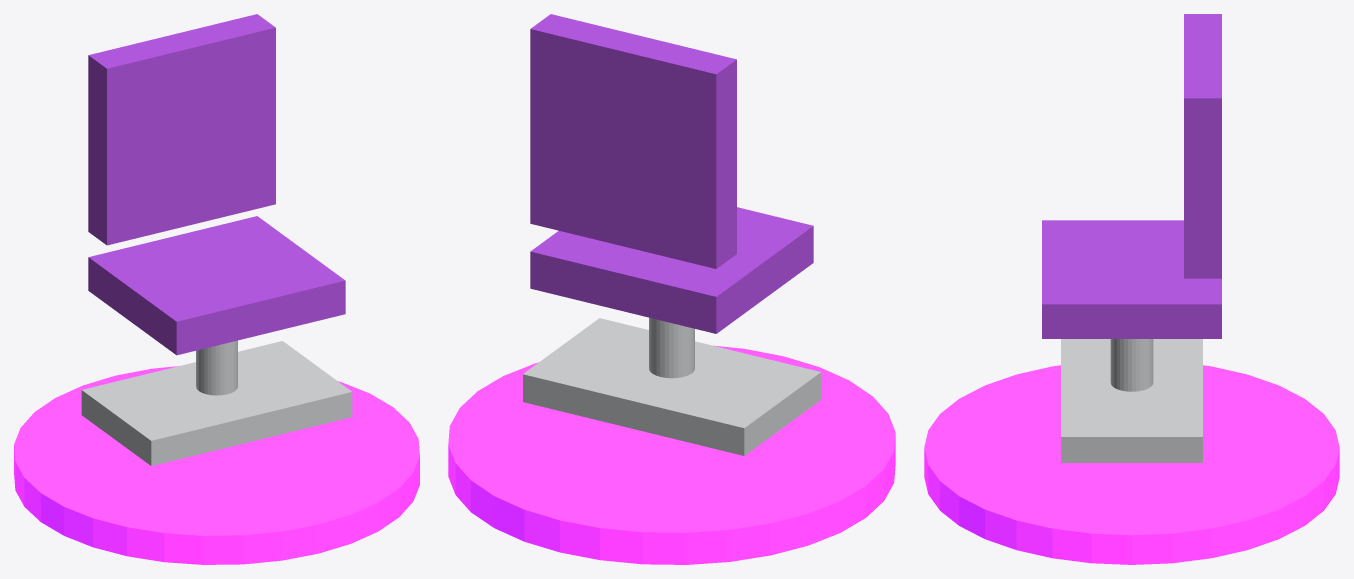
The model's file is modelling_makeup_chair.glb.
3 views of the same model, side by side, from view 1: azimuth 30°, elevation 25°; view 2: azimuth 150°, elevation 25°; view 3: azimuth 270°, elevation 25° (orthographic). The views are drawn at different scales.
Parts seen in each view (by area): view 1: 05_18_Popular_Modelling_Makeup_Chair_ROOT_base, 05_18_Popular_Modelling_Makeup_Chair_part_02, 05_18_Popular_Modelling_Makeup_Chair_part_01, 05_18_Popular_Modelling_Makeup_Chair_part_04, 05_18_Popular_Modelling_Makeup_Chair_part_03; view 2: 05_18_Popular_Modelling_Makeup_Chair_ROOT_base, 05_18_Popular_Modelling_Makeup_Chair_part_02, 05_18_Popular_Modelling_Makeup_Chair_part_04, 05_18_Popular_Modelling_Makeup_Chair_part_01, 05_18_Popular_Modelling_Makeup_Chair_part_03; view 3: 05_18_Popular_Modelling_Makeup_Chair_ROOT_base, 05_18_Popular_Modelling_Makeup_Chair_part_01, 05_18_Popular_Modelling_Makeup_Chair_part_04, 05_18_Popular_Modelling_Makeup_Chair_part_02, 05_18_Popular_Modelling_Makeup_Chair_part_03.
Part boxes in pixels (bbox=[...]): 05_18_Popular_Modelling_Makeup_Chair_ROOT_base: bbox=[14, 366, 419, 564]; 05_18_Popular_Modelling_Makeup_Chair_part_02: bbox=[88, 14, 275, 245]; 05_18_Popular_Modelling_Makeup_Chair_part_01: bbox=[88, 216, 345, 355]; 05_18_Popular_Modelling_Makeup_Chair_part_04: bbox=[81, 341, 352, 465]; 05_18_Popular_Modelling_Makeup_Chair_part_03: bbox=[196, 340, 237, 395]; 05_18_Popular_Modelling_Makeup_Chair_ROOT_base: bbox=[448, 345, 895, 564]; 05_18_Popular_Modelling_Makeup_Chair_part_02: bbox=[530, 14, 736, 268]; 05_18_Popular_Modelling_Makeup_Chair_part_04: bbox=[523, 318, 820, 455]; 05_18_Popular_Modelling_Makeup_Chair_part_01: bbox=[530, 207, 813, 333]; 05_18_Popular_Modelling_Makeup_Chair_part_03: bbox=[649, 317, 694, 378]; 05_18_Popular_Modelling_Makeup_Chair_ROOT_base: bbox=[924, 365, 1339, 564]; 05_18_Popular_Modelling_Makeup_Chair_part_01: bbox=[1042, 220, 1221, 338]; 05_18_Popular_Modelling_Makeup_Chair_part_04: bbox=[1061, 339, 1202, 462]; 05_18_Popular_Modelling_Makeup_Chair_part_02: bbox=[1184, 14, 1221, 278]; 05_18_Popular_Modelling_Makeup_Chair_part_03: bbox=[1110, 339, 1153, 391].
Bounding box in the file's own units: 0.76 × 0.85 × 0.76.
